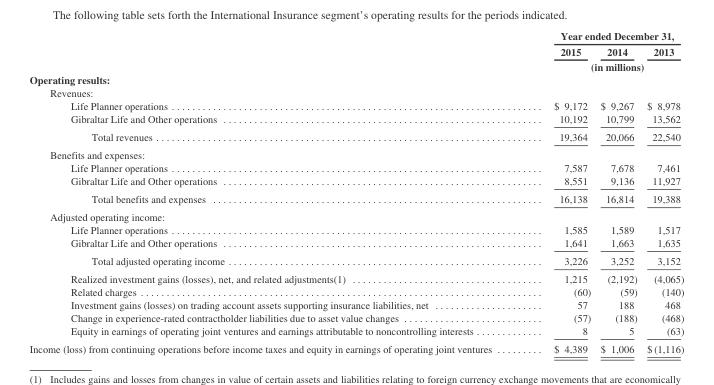table: (28, 29, 683, 354)
table column: (28, 29, 522, 354), (522, 29, 595, 354), (595, 29, 641, 354), (641, 29, 683, 354)
table column header: (28, 29, 683, 72)
table projected row header: (28, 145, 683, 160), (28, 207, 683, 222), (28, 72, 683, 85), (28, 85, 683, 98)
table row: (28, 127, 683, 145), (28, 189, 683, 207), (28, 251, 683, 269), (28, 111, 683, 127), (28, 173, 683, 189), (28, 235, 683, 251), (28, 323, 683, 339), (28, 43, 683, 58), (28, 145, 683, 160), (28, 207, 683, 222), (28, 269, 683, 284), (28, 339, 683, 354), (28, 29, 683, 43), (28, 58, 683, 72), (28, 72, 683, 85), (28, 85, 683, 98), (28, 98, 683, 111), (28, 160, 683, 173), (28, 222, 683, 235), (28, 284, 683, 297), (28, 297, 683, 310), (28, 310, 683, 323)
table spanning cell: (522, 29, 683, 43), (522, 58, 683, 72)
